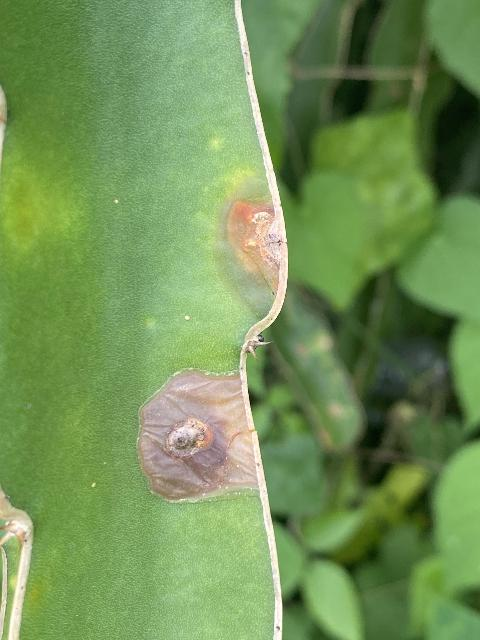stemcanker: (135, 369, 262, 504), (225, 198, 286, 299)
